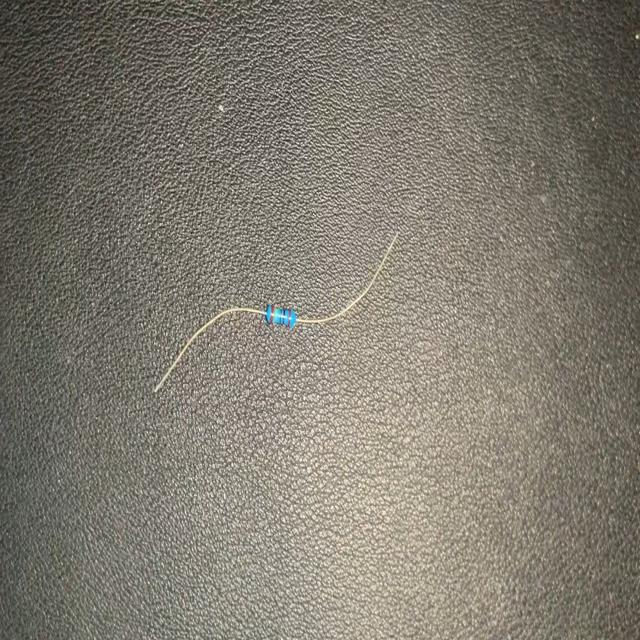resistor: (156, 236, 399, 392)
